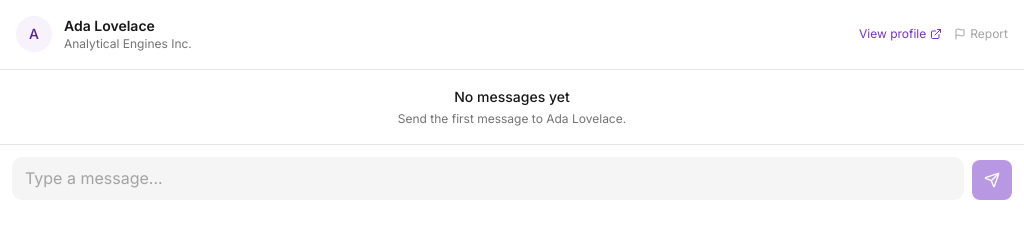
Scenario: ConversationThread send/retry › shows a pending bubble immediately, then a failed state with Retry when the send fails
Type "Hello there" into the text box labelled "Type a message..." at (488, 178), box [12,157,964,200]
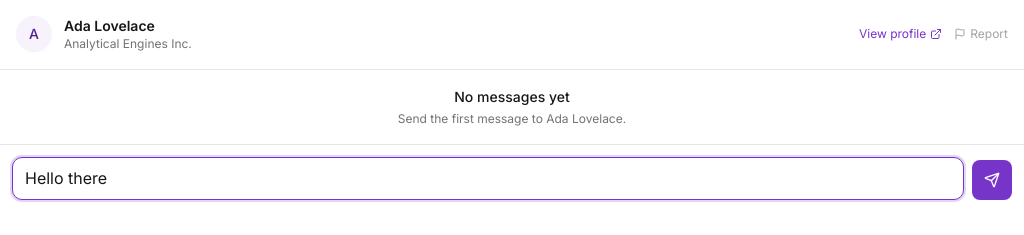
Click the button named "send message" at (992, 180), box [972,160,1012,200]
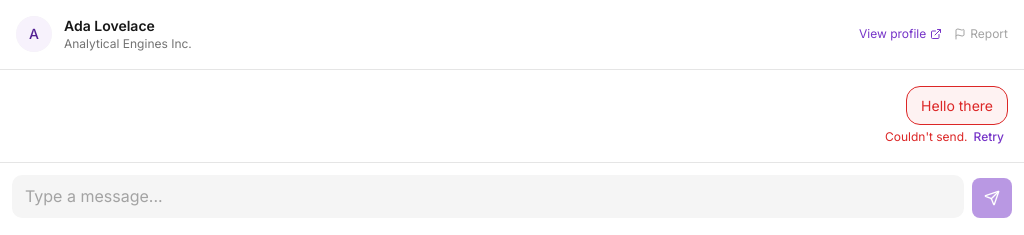
Expected: the text "Hello there" is shown, [906,86,1008,125]
Expected: the text "Sending…" is shown, [881,129,1008,146]
Expected: the text "Couldn't send." is shown, [885,129,968,146]
